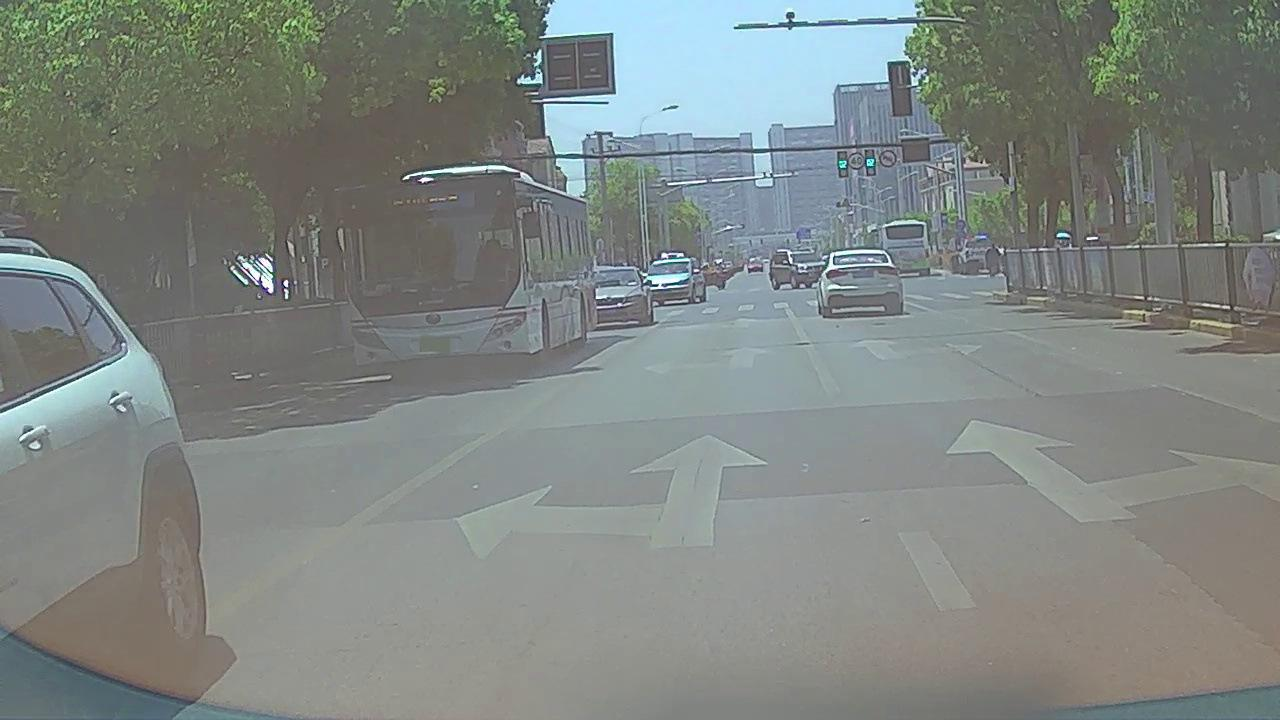traffic_light: (865, 149, 874, 175), (839, 152, 847, 175)
